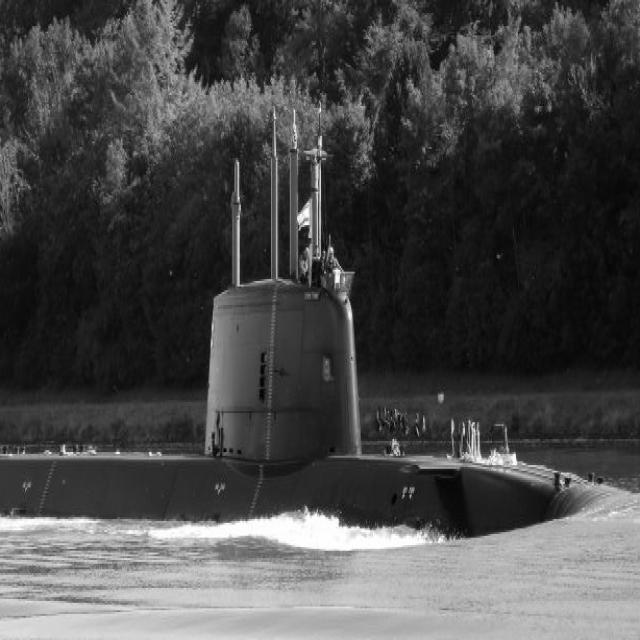submarine: (1, 94, 636, 537)
